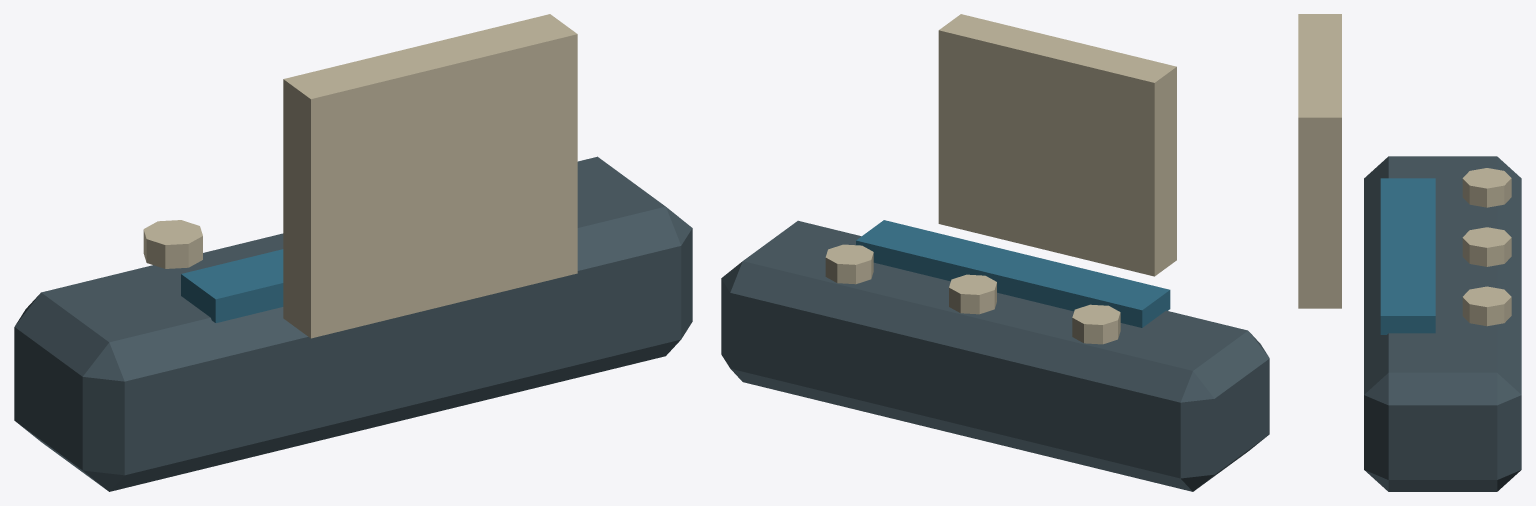
The model's file is set_emergency_lamp.glb.
3 views of the same model, side by side, from view 1: azimuth 30°, elevation 25°; view 2: azimuth 150°, elevation 25°; view 3: azimuth 270°, elevation 25° (orthographic). The views are drawn at different scales.
Parts seen in each view (by area): view 1: set_emergency_lamp; view 2: set_emergency_lamp; view 3: set_emergency_lamp.
Boxes of the visible parts, x1,y1,x2,y2 form: set_emergency_lamp: [14, 14, 692, 491]; set_emergency_lamp: [721, 14, 1269, 491]; set_emergency_lamp: [1298, 14, 1521, 491].
Size of the model in its own units: 0.32 by 0.2 by 0.1275.
